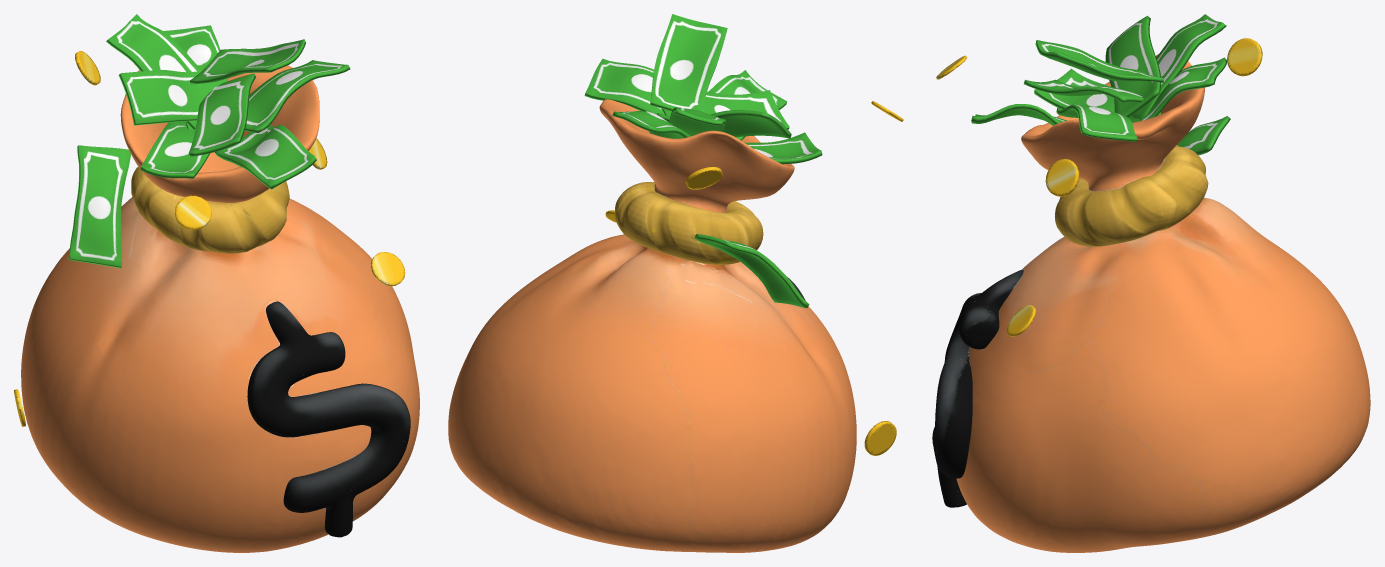
File: BolsaDinero-transformed.glb
3 views of the same model, side by side, from view 1: azimuth 30°, elevation 25°; view 2: azimuth 150°, elevation 25°; view 3: azimuth 270°, elevation 25° (orthographic).
Visible parts, largest first — view 1: BOLSA_MONEY_0; view 2: BOLSA_MONEY_0; view 3: BOLSA_MONEY_0.
Boxes of the visible parts, box(x1,y1,x2,y2) form: BOLSA_MONEY_0: box(14, 14, 419, 552); BOLSA_MONEY_0: box(448, 14, 903, 552); BOLSA_MONEY_0: box(932, 14, 1370, 552).
Size of the model in its own units: 1.38 by 1.61 by 1.3.
Materials: 5 (5 with a texture image).
